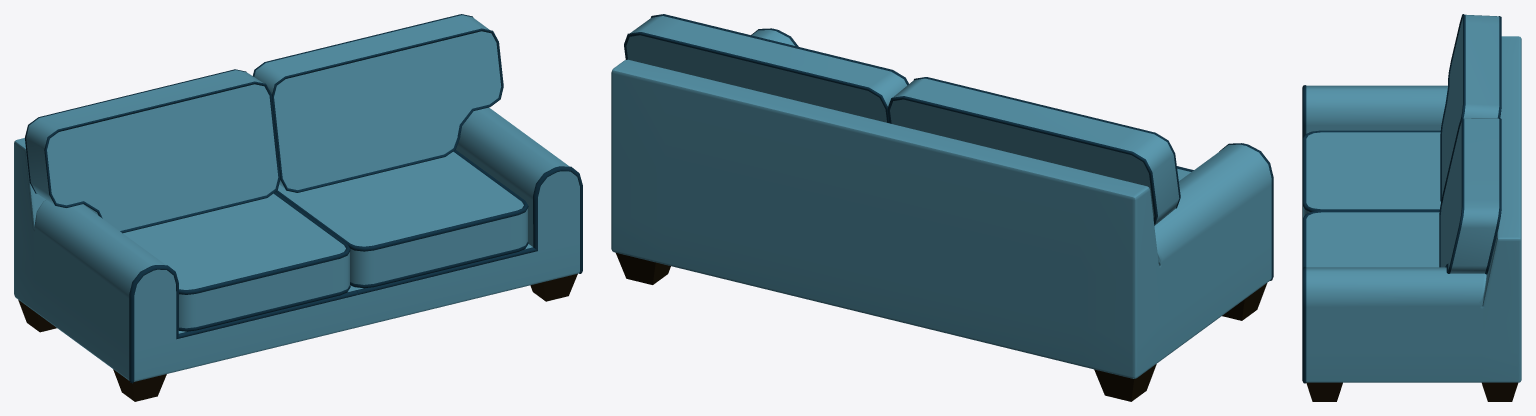
Rendered from Couch.fbx.
The picture shows the model from 3 angles, left to right: view 1: azimuth 30°, elevation 25°; view 2: azimuth 150°, elevation 25°; view 3: azimuth 270°, elevation 25°; orthographic projection. The views are drawn at different scales.
Visible parts, largest first — view 1: Sofa, TopRightPillow, TopLeftPillow, BottomLeftPillow, BottomRightPillow, FrontRightLeg, FrontLeftLeg; view 2: Sofa, TopRightPillow, TopLeftPillow, BackRightLeg, BackLeftLeg, FrontRightLeg; view 3: Sofa, BottomRightPillow, TopLeftPillow, BottomLeftPillow, TopRightPillow, BackLeftLeg, FrontLeftLeg.
Part boxes in pixels (x1,y1,x2,y2): Sofa: (14,107,582,383); TopRightPillow: (25,69,280,233); TopLeftPillow: (253,14,503,192); BottomLeftPillow: (276,150,528,288); BottomRightPillow: (123,192,350,331); FrontRightLeg: (113,369,166,401); FrontLeftLeg: (530,274,577,301); Sofa: (611,28,1273,378); TopRightPillow: (887,77,1180,225); TopLeftPillow: (624,14,908,122); BackRightLeg: (1094,364,1156,401); BackLeftLeg: (616,253,670,284); FrontRightLeg: (1222,283,1267,320); Sofa: (1302,36,1521,383); BottomRightPillow: (1302,130,1440,218); TopLeftPillow: (1439,117,1501,274); BottomLeftPillow: (1302,210,1439,268); TopRightPillow: (1440,14,1501,201); BackLeftLeg: (1482,382,1518,401); FrontLeftLeg: (1306,382,1342,401).
Size of the model in its own units: 182 by 80.75 by 82.57.
